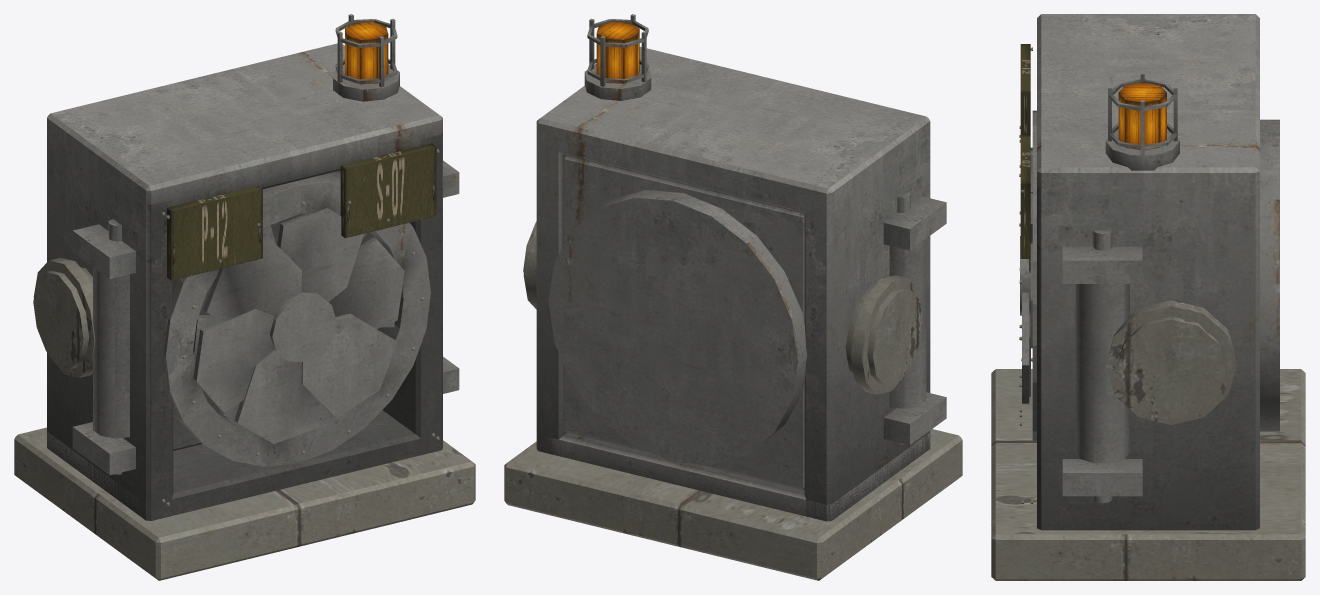
The model's file is power-kit.glb.
3 views of the same model, side by side, from view 1: azimuth 30°, elevation 25°; view 2: azimuth 150°, elevation 25°; view 3: azimuth 270°, elevation 25° (orthographic). The views are drawn at different scales.
Visible parts, largest first — view 1: PK_shield_housing, PK_shield_plinth, PK_surge_stencil, PK_shield_stencil, PK_shield_iris_blade_5, PK_surge_mount, PK_shield_iris_blade_3, PK_shield_iris_blade_4, PK_shield_iris_blade_1, PK_shield_iris_blade_2, PK_surge_cage, PK_shield_iris_blade_0 (+1 smaller); view 2: PK_shield_housing, PK_shield_plinth, PK_surge_mount, PK_shield_core; view 3: PK_shield_housing, PK_shield_plinth, PK_surge_mount, PK_shield_core, PK_surge_stencil, PK_shield_stencil, PK_shield_iris_blade_5, PK_surge_cage.
Part boxes in pixels (bbox=[...]): PK_shield_housing: bbox=[47, 14, 459, 520]; PK_shield_plinth: bbox=[14, 427, 475, 580]; PK_surge_stencil: bbox=[340, 143, 436, 238]; PK_shield_stencil: bbox=[167, 186, 262, 280]; PK_shield_iris_blade_5: bbox=[301, 313, 397, 418]; PK_surge_mount: bbox=[33, 257, 95, 377]; PK_shield_iris_blade_3: bbox=[193, 309, 274, 412]; PK_shield_iris_blade_4: bbox=[234, 350, 322, 443]; PK_shield_iris_blade_1: bbox=[277, 208, 363, 302]; PK_shield_iris_blade_2: bbox=[203, 233, 301, 322]; PK_surge_cage: bbox=[193, 214, 394, 421]; PK_shield_iris_blade_0: bbox=[329, 237, 404, 328]; PK_shield_housing: bbox=[536, 14, 946, 521]; PK_shield_plinth: bbox=[504, 429, 962, 580]; PK_surge_mount: bbox=[523, 221, 922, 394]; PK_shield_core: bbox=[596, 21, 639, 83]; PK_shield_housing: bbox=[1032, 14, 1279, 530]; PK_shield_plinth: bbox=[991, 369, 1305, 580]; PK_surge_mount: bbox=[1105, 300, 1236, 424]; PK_shield_core: bbox=[1118, 82, 1166, 150]; PK_surge_stencil: bbox=[1020, 135, 1030, 258]; PK_shield_stencil: bbox=[1020, 44, 1030, 135]; PK_shield_iris_blade_5: bbox=[1022, 292, 1029, 403]; PK_surge_cage: bbox=[1020, 236, 1030, 315].
Bounding box in the file's own units: 1.54 × 1.83 × 1.1.
3 materials, 3 textured.
